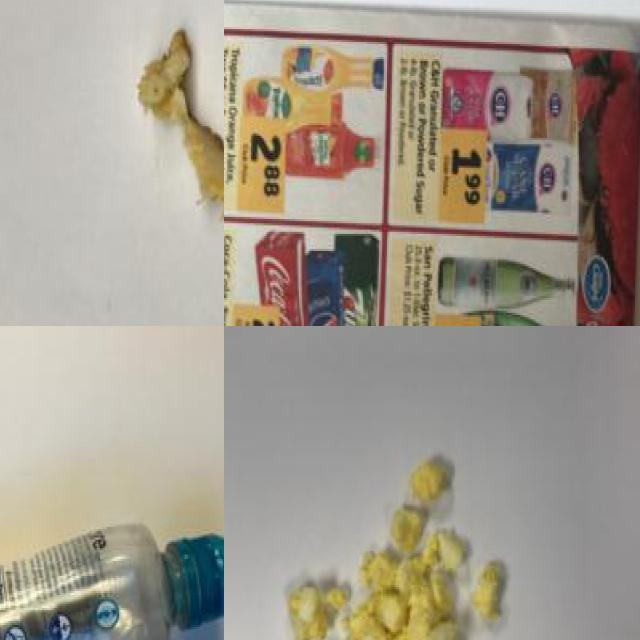compost: (279, 446, 526, 640), (110, 4, 224, 252)
paper: (224, 0, 640, 326)
plastic: (0, 517, 224, 640)
